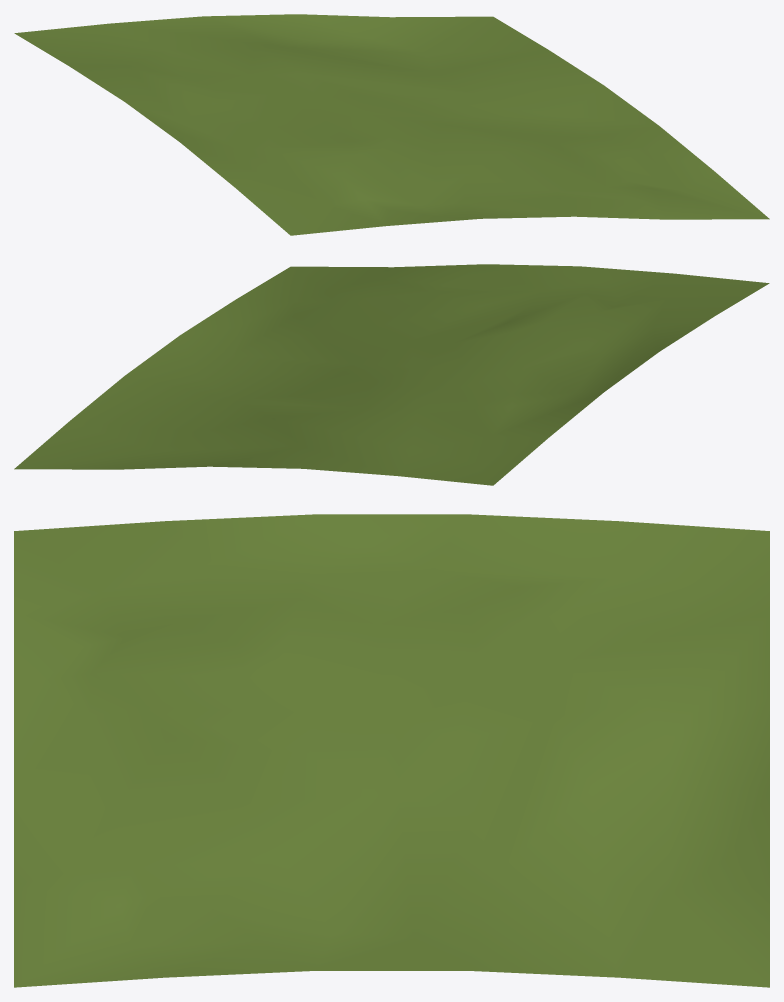
Rendered from rpgpp_ag_terrain_hill_02a_10x10m.fbx.
3 views of the same model, one above another, from view 1: azimuth 30°, elevation 25°; view 2: azimuth 150°, elevation 25°; view 3: azimuth 270°, elevation 25° (orthographic). The views are drawn at different scales.
Parts seen in each view (by area): view 1: rpgpp_ag_terrain_hill_02a_10x10m; view 2: rpgpp_ag_terrain_hill_02a_10x10m; view 3: rpgpp_ag_terrain_hill_02a_10x10m.
Part boxes in pixels (x1,y1,x2,y2): rpgpp_ag_terrain_hill_02a_10x10m: [14, 14, 769, 235]; rpgpp_ag_terrain_hill_02a_10x10m: [14, 264, 769, 485]; rpgpp_ag_terrain_hill_02a_10x10m: [14, 514, 769, 987].
Bounding box in the file's own units: 10 × 2.25 × 10.
